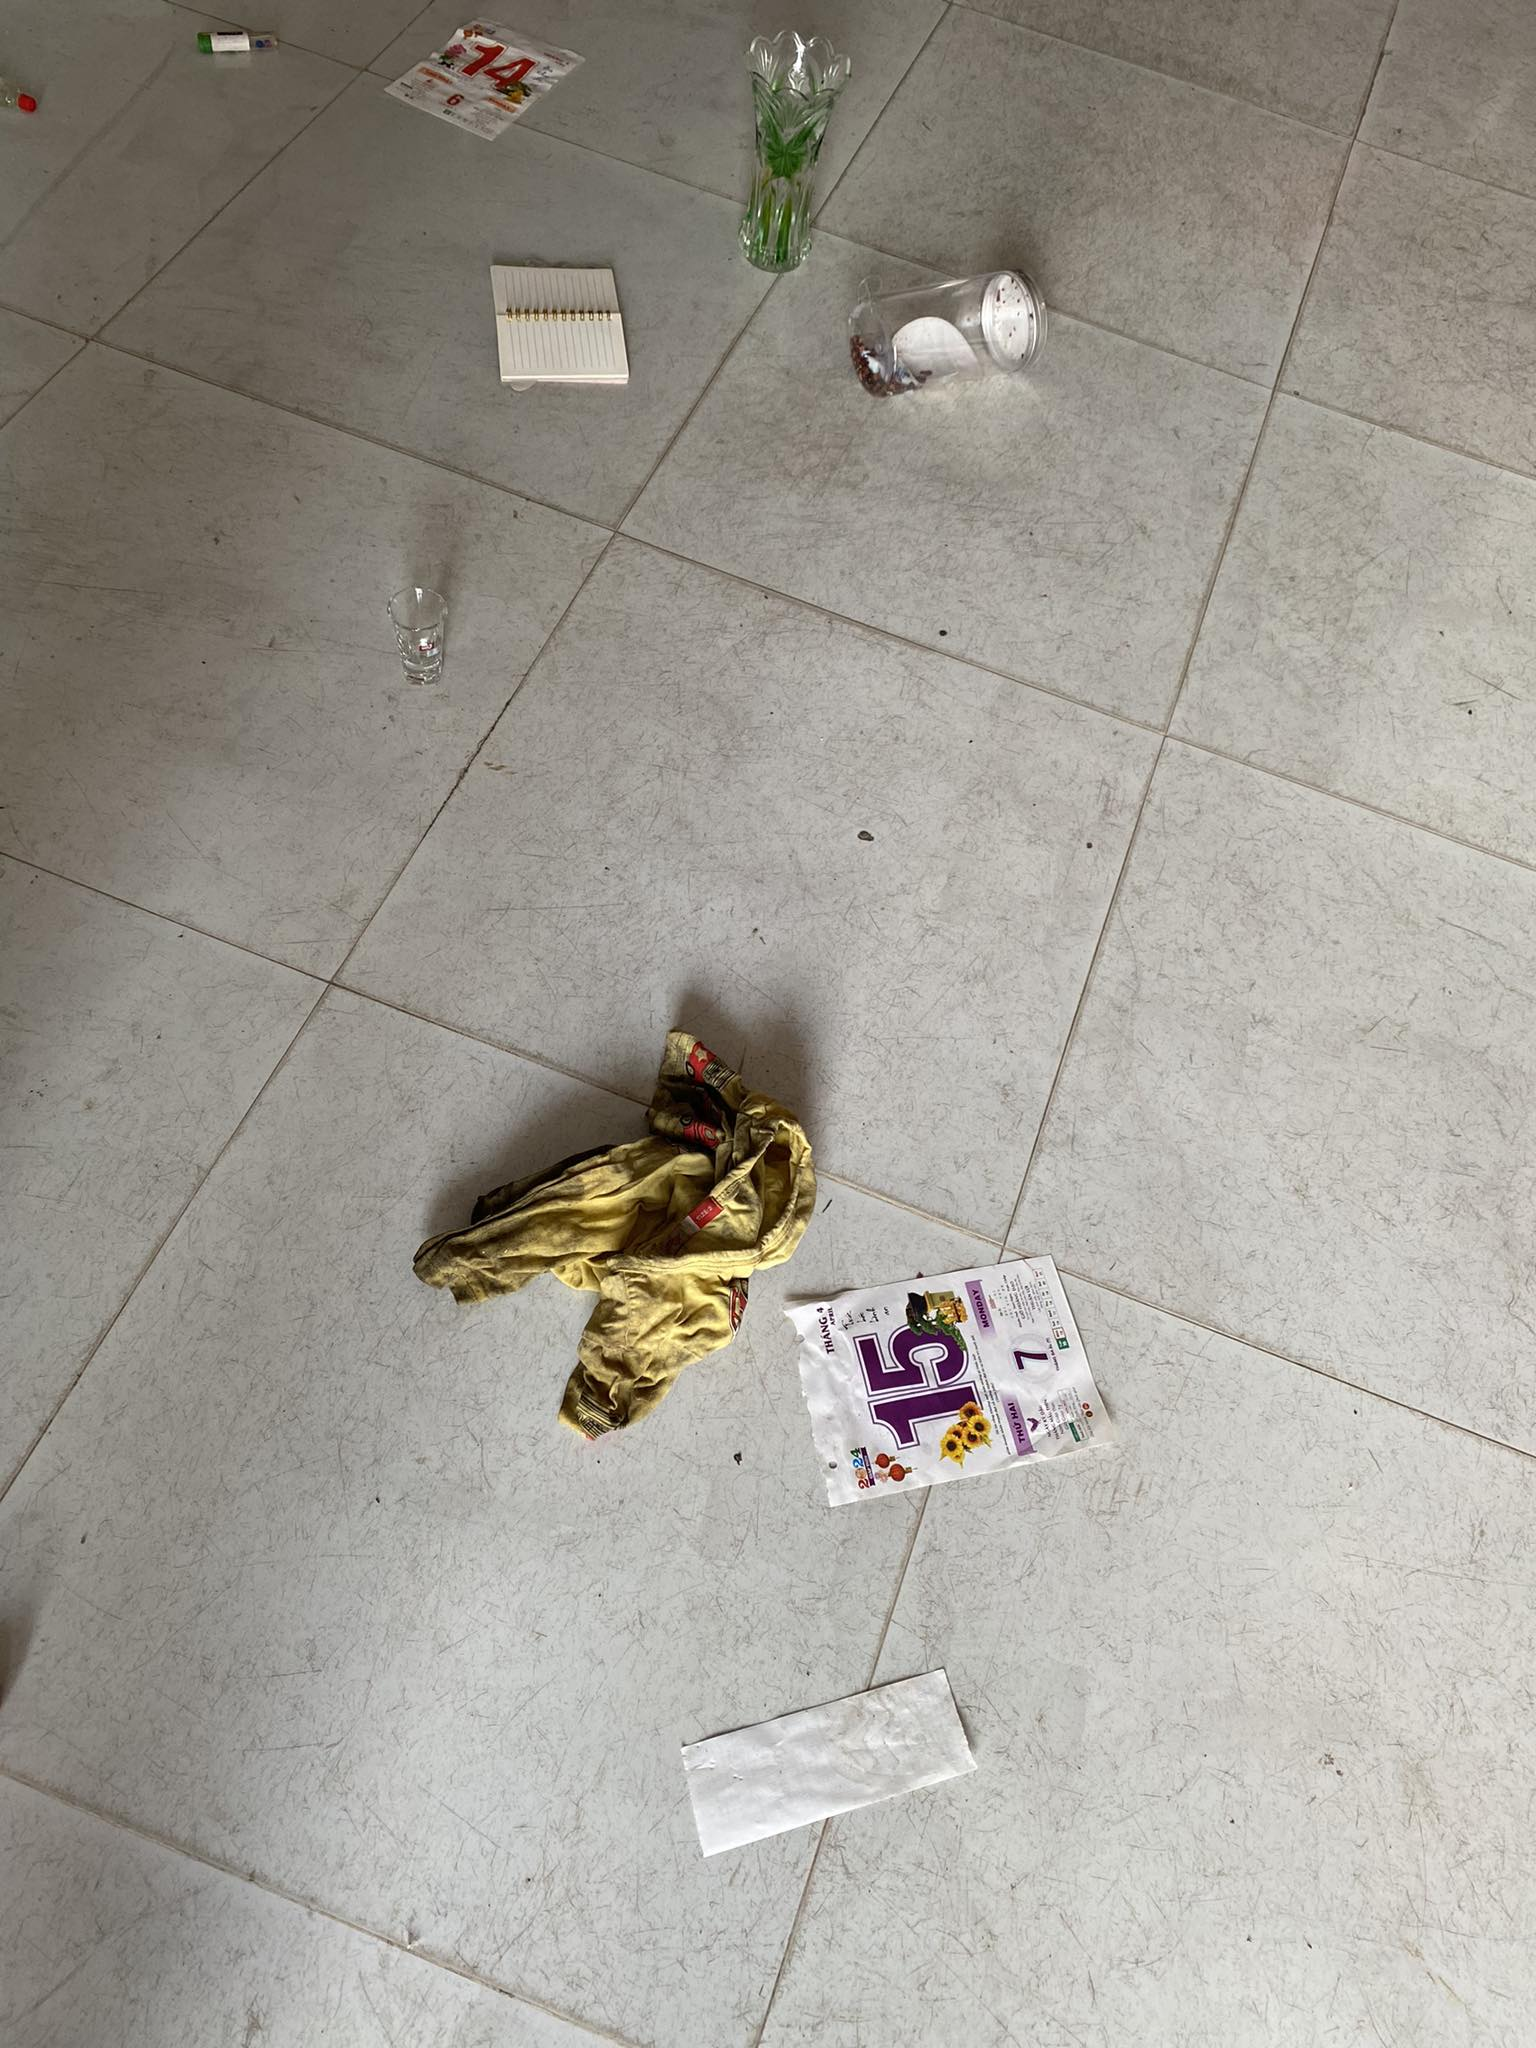clothes: (407, 1016, 849, 1466)
glass: (700, 27, 845, 327), (361, 574, 510, 753)
paper: (784, 1203, 1157, 1516), (624, 1675, 1031, 1900), (342, 11, 582, 148), (468, 255, 639, 437)
plastic: (815, 221, 1062, 414), (168, 15, 286, 65)
